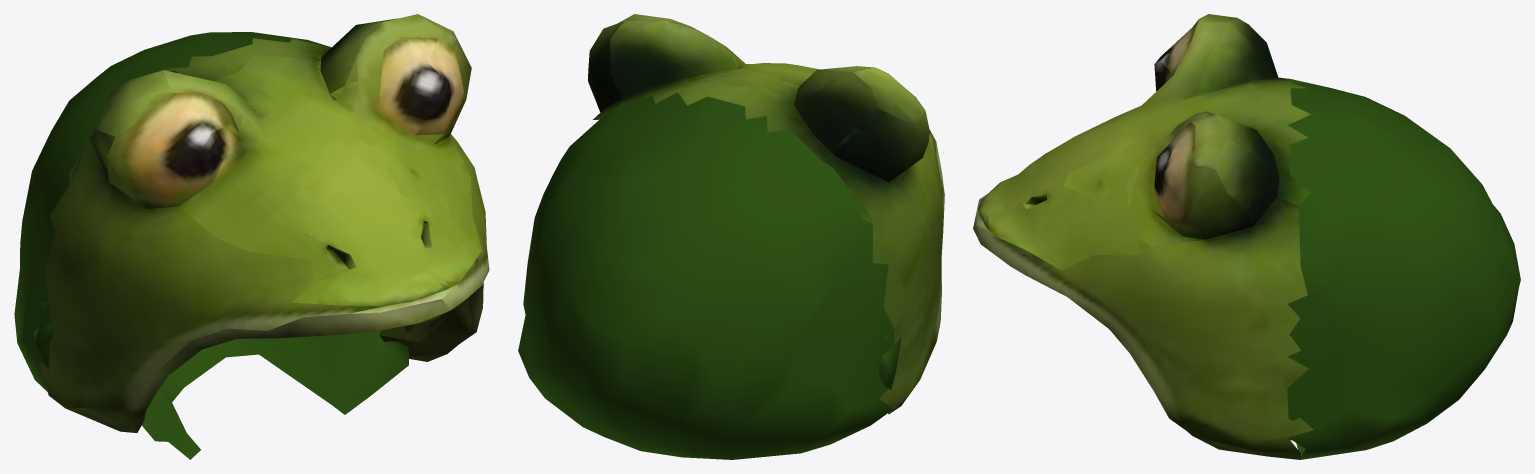
Rendered from frog.glb.
3 views of the same model, side by side, from view 1: azimuth 30°, elevation 25°; view 2: azimuth 150°, elevation 25°; view 3: azimuth 270°, elevation 25° (orthographic). The views are drawn at different scales.
Parts seen in each view (by area): view 1: geometry_0, HoodAnatomicalLining; view 2: geometry_0, HoodAnatomicalLining; view 3: geometry_0.
Boxes of the visible parts, x1=… form: geometry_0: x1=14, y1=14, x2=489, y2=432; HoodAnatomicalLining: x1=33, y1=94, x2=414, y2=459; geometry_0: x1=518, y1=14, x2=944, y2=459; HoodAnatomicalLining: x1=737, y1=67, x2=901, y2=389; geometry_0: x1=973, y1=14, x2=1520, y2=459.
Bounding box in the file's own units: 0.4649 × 0.4435 × 0.6303.
Materials: 2 (1 with a texture image).
